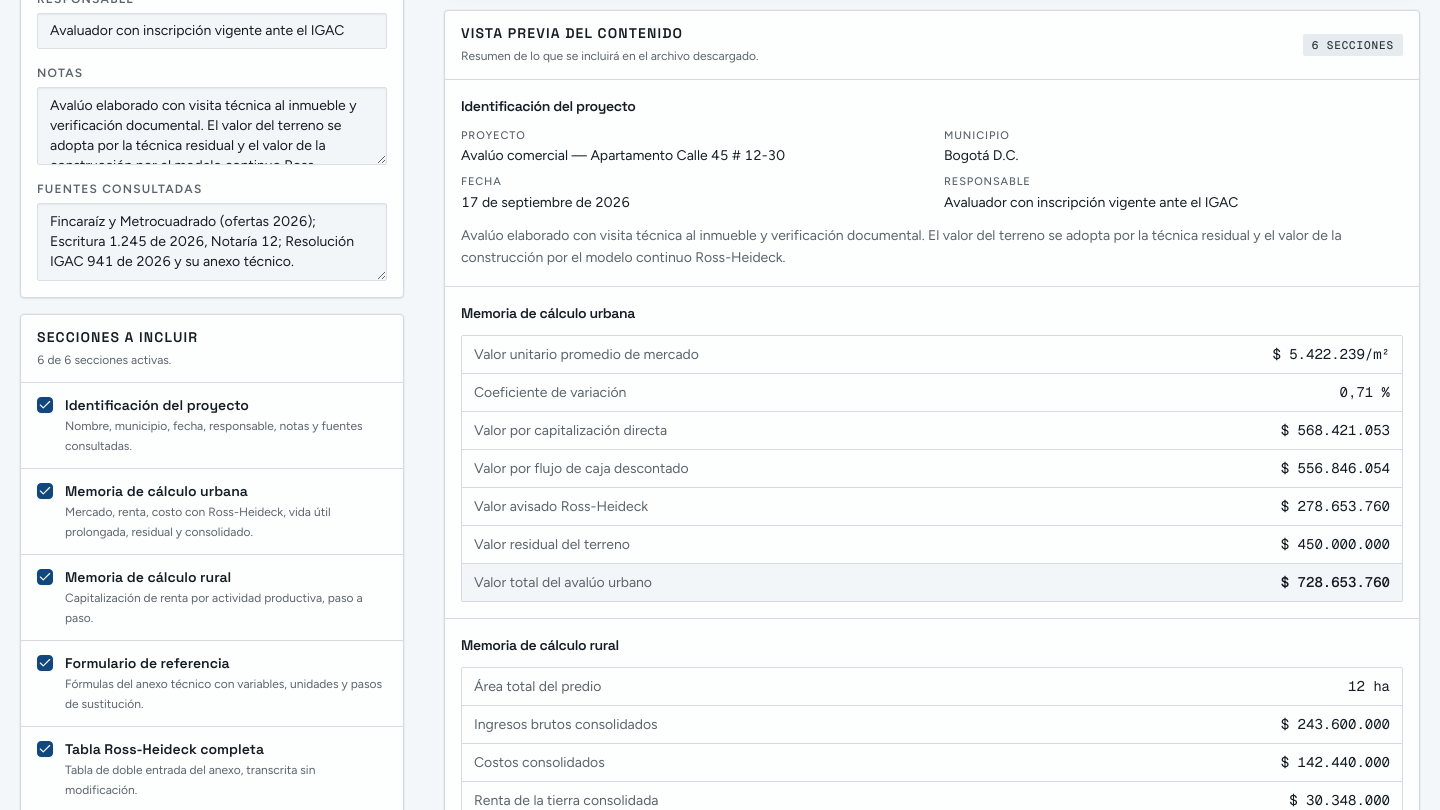
Scenario: ExportarPage › muestra el estado vacío cuando no hay secciones seleccionadas
(page scrolled)
Click the 1st checkbox: (45, 405) [37,397,53,413]
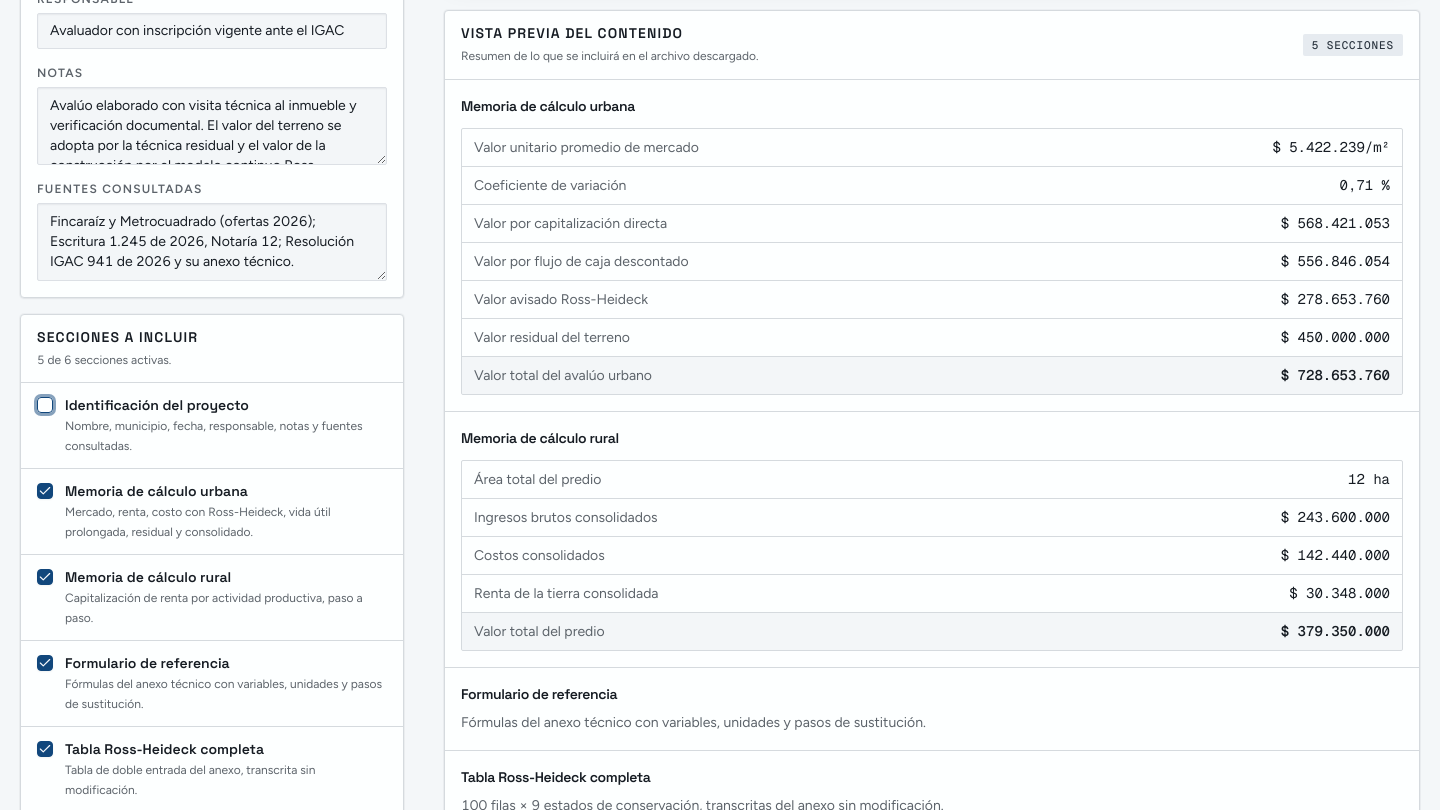
Click the 2nd checkbox: (45, 491) [37,483,53,499]
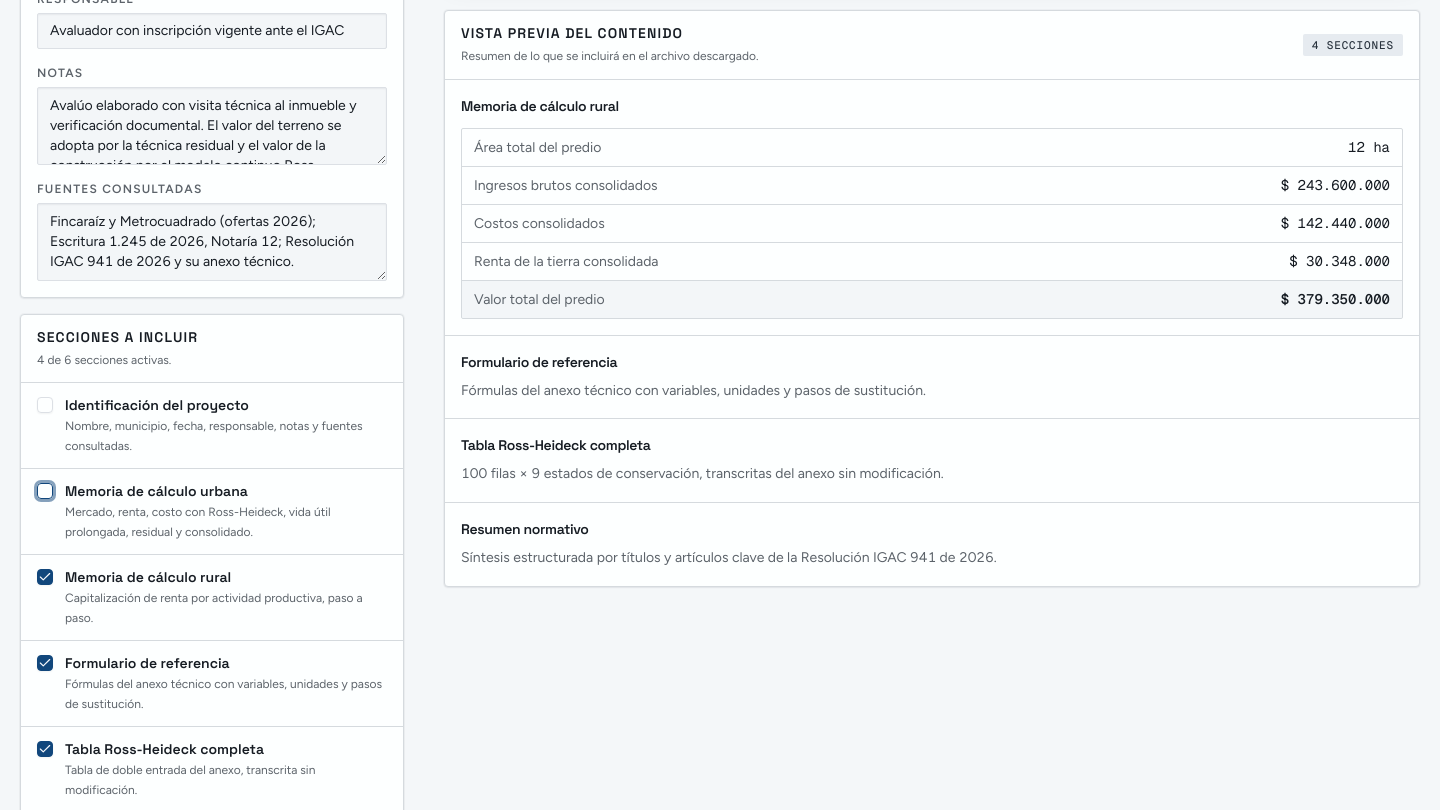
Click the checkbox with test id "exportar.seccion_checkbox.rural": (45, 577) [37,569,53,585]
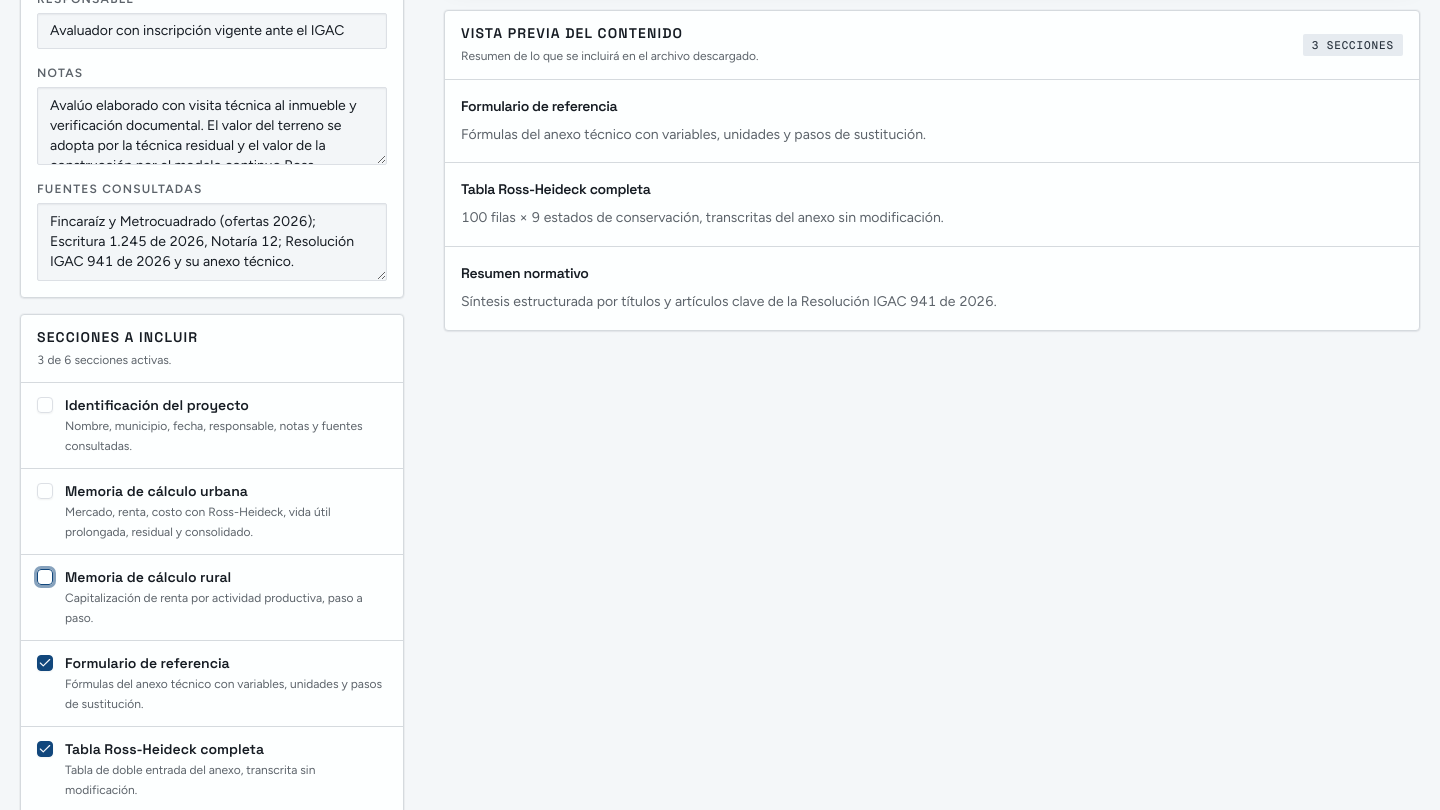
Click the 4th checkbox: (45, 663) [37,655,53,671]
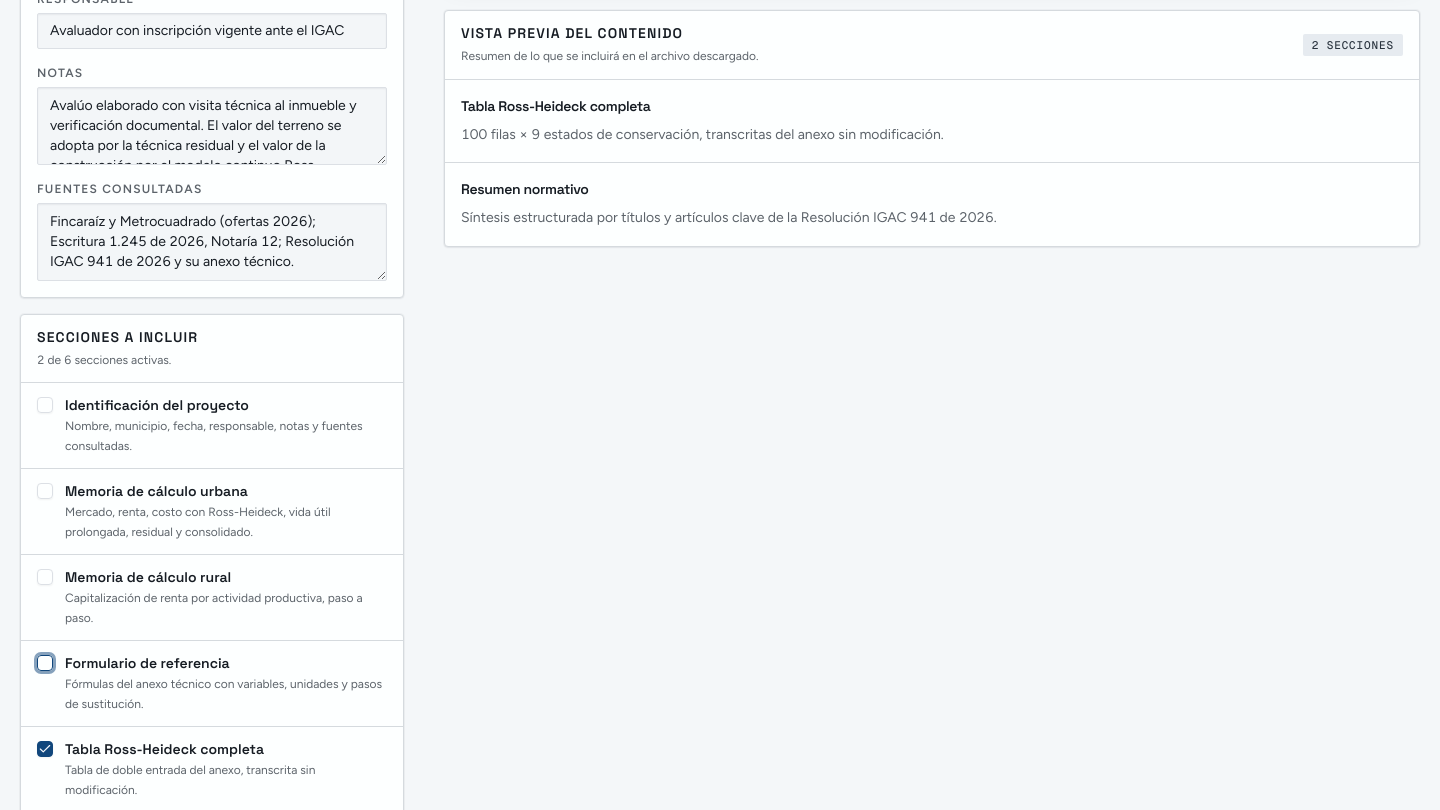
Click the 5th checkbox: (45, 749) [37,741,53,757]
(page scrolled)
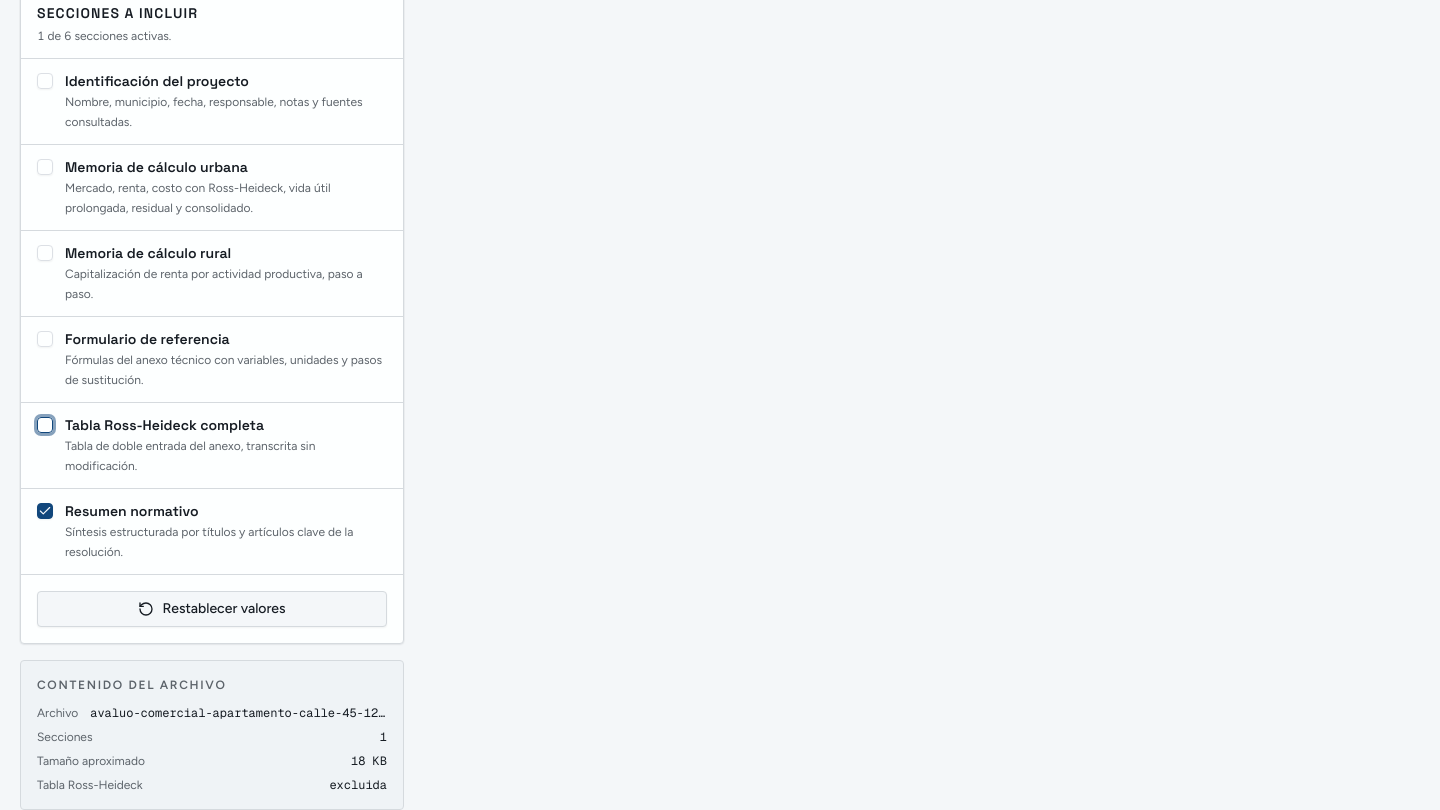
Click the 6th checkbox: (45, 511) [37,503,53,519]
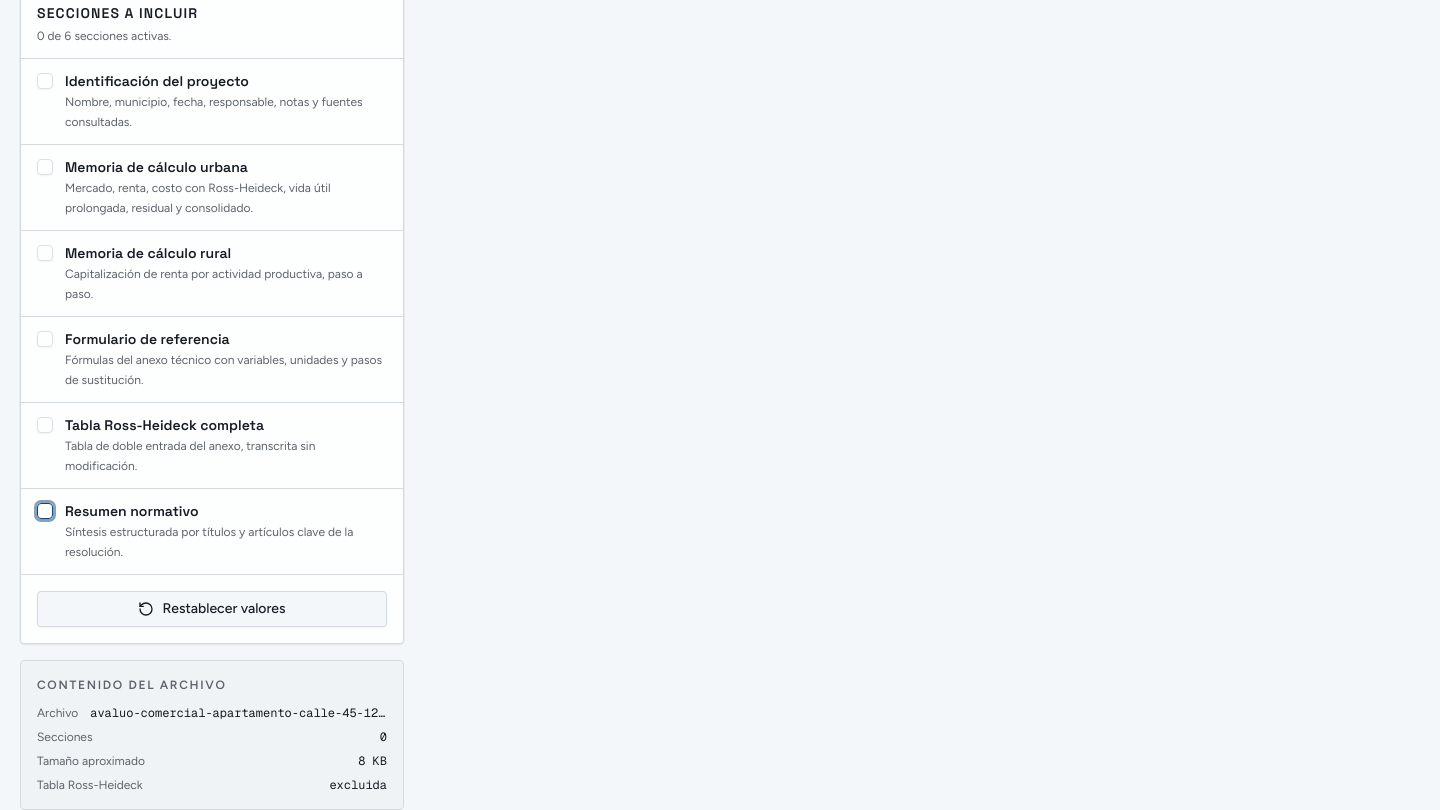
Expected: the text "0 de 6 secciones activas." is shown, [37,28,171,42]
